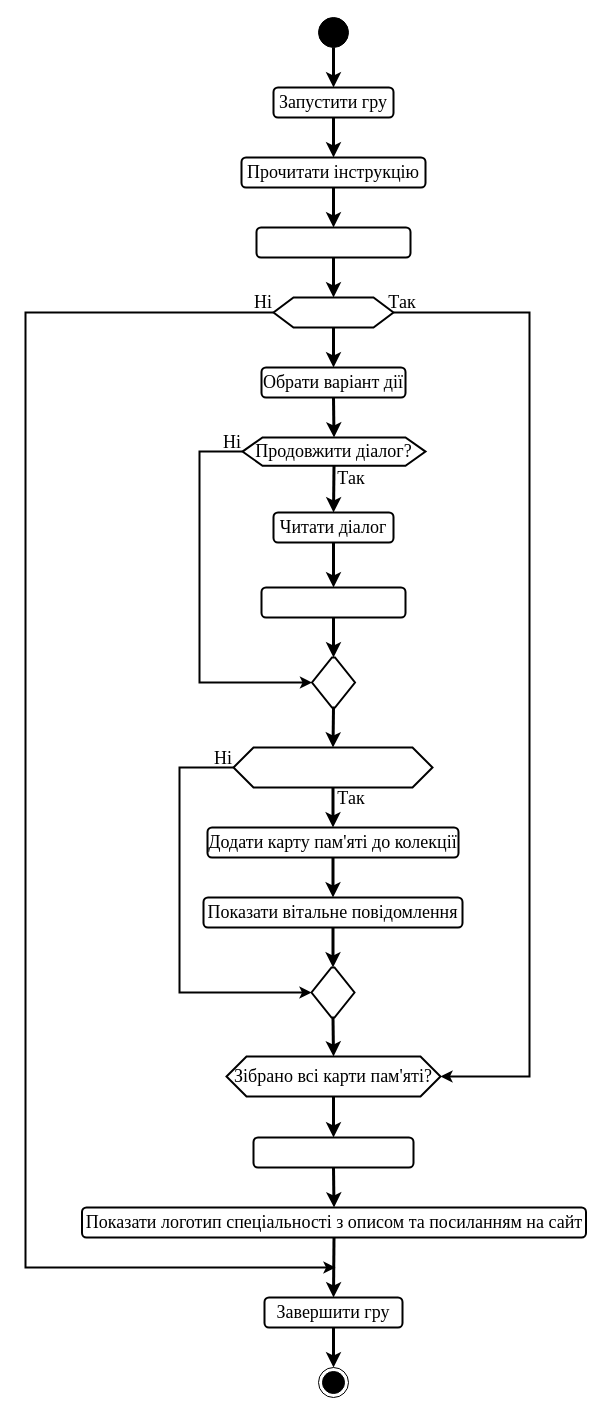
The diagram is 604 pixels wide and 1415 high, and some of its shapes have lost their labels. The box of each missing label's shape, as (x1, y1, x2, y2) in pixels:
Гра триває?: (272, 296, 394, 328)
Знайдено карту пам'яті?: (232, 746, 433, 788)
Обирати відповіді: (260, 586, 406, 618)
Прочитати пролог: (255, 226, 411, 258)
Розкрити таємницю: (252, 1136, 414, 1168)
